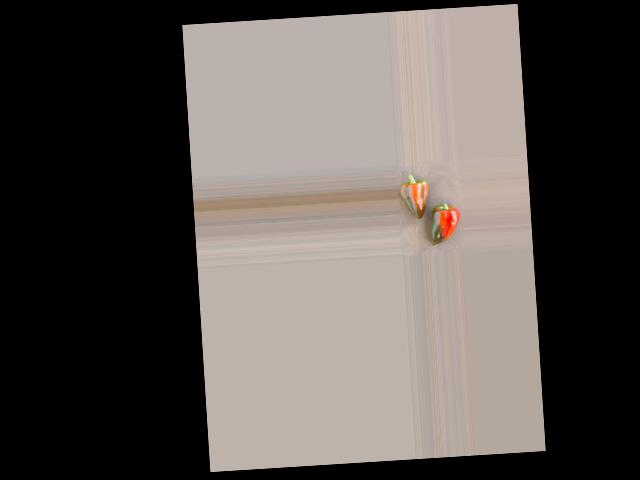bell_pepper: (426, 188, 463, 247)
